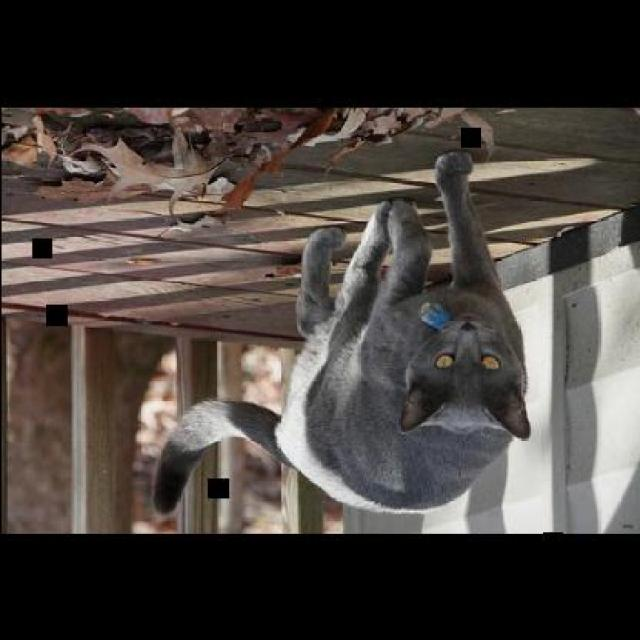unauthorized: (151, 150, 531, 516)
